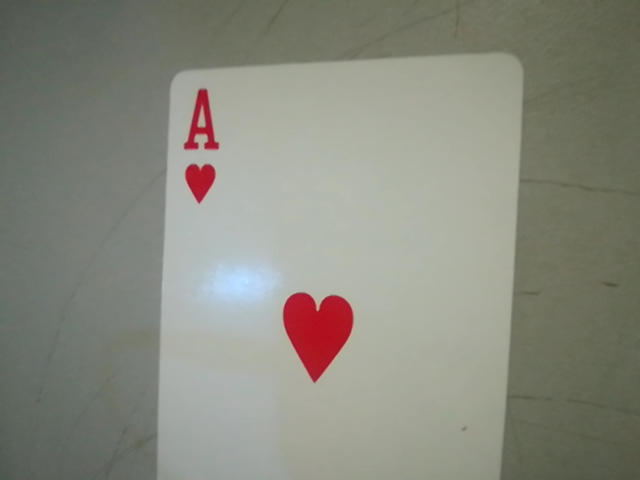hx a: (166, 84, 231, 212)
